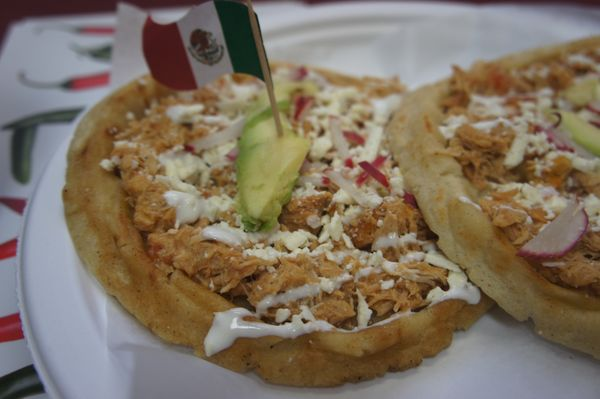soup: (383, 32, 600, 364)
